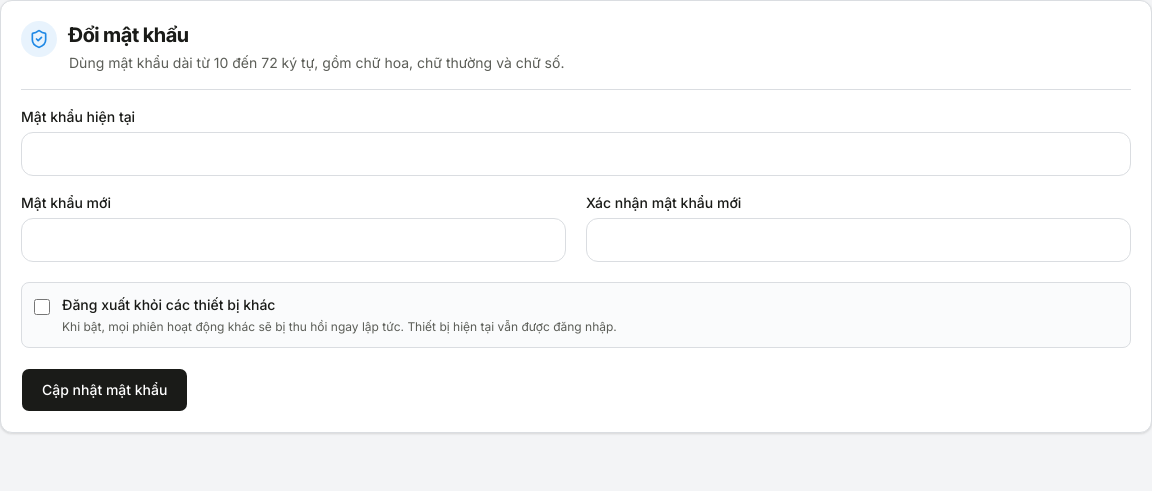
Test: ChangePasswordForm › shows revoked session count only when the option is enabled
Type "CurrentPass1" into the password field labelled "Mật khẩu hiện tại".
click(576, 154); type("CurrentPass1")  # box [21, 132, 1131, 176]
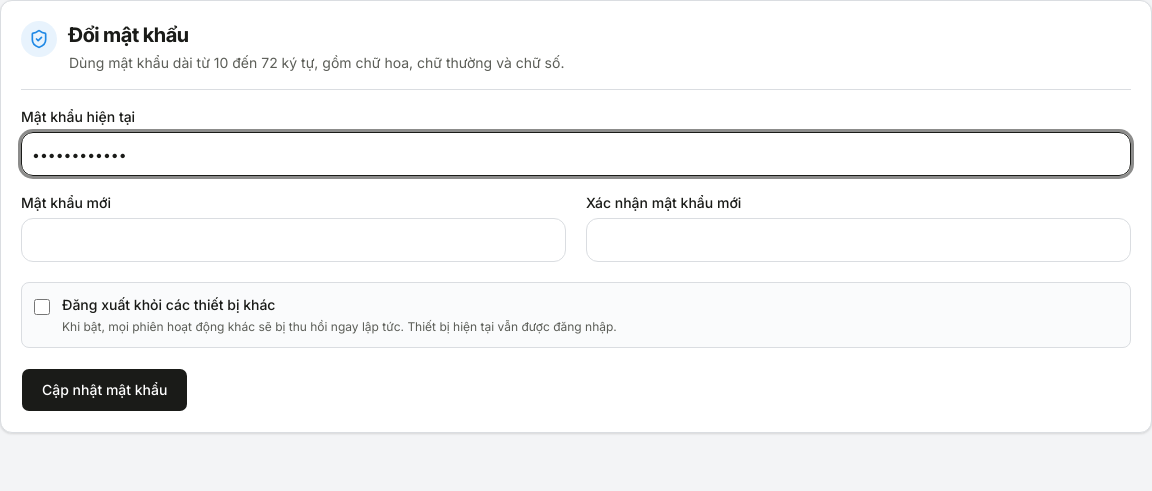
Type "NewPassword1" into the password field labelled "Mật khẩu mới".
click(294, 240); type("NewPassword1")  # box [21, 218, 566, 262]
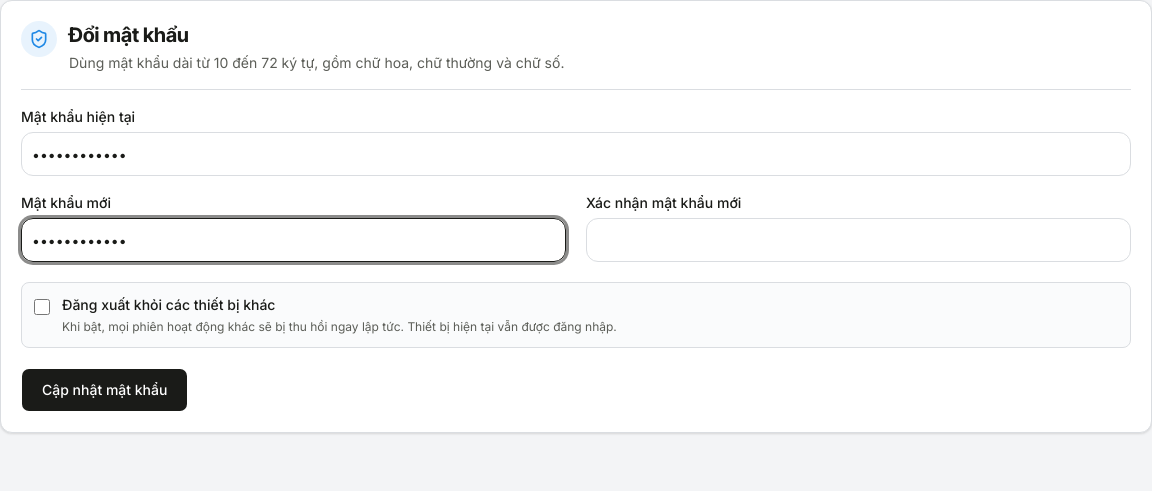
Type "NewPassword1" into the password field labelled "Xác nhận mật khẩu mới".
click(858, 240); type("NewPassword1")  # box [586, 218, 1131, 262]
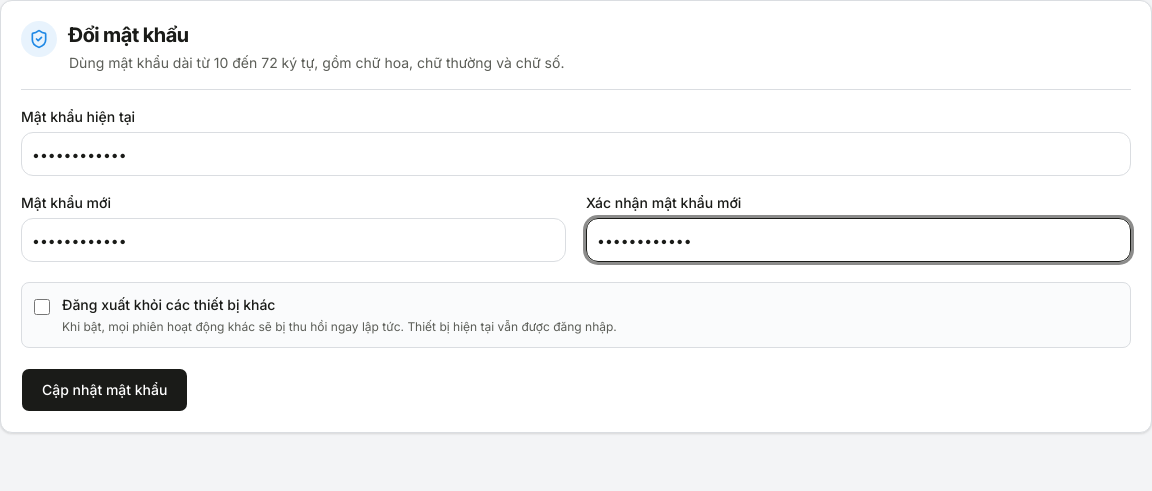
Click the checkbox.
click(42, 307)  # box [34, 299, 50, 315]
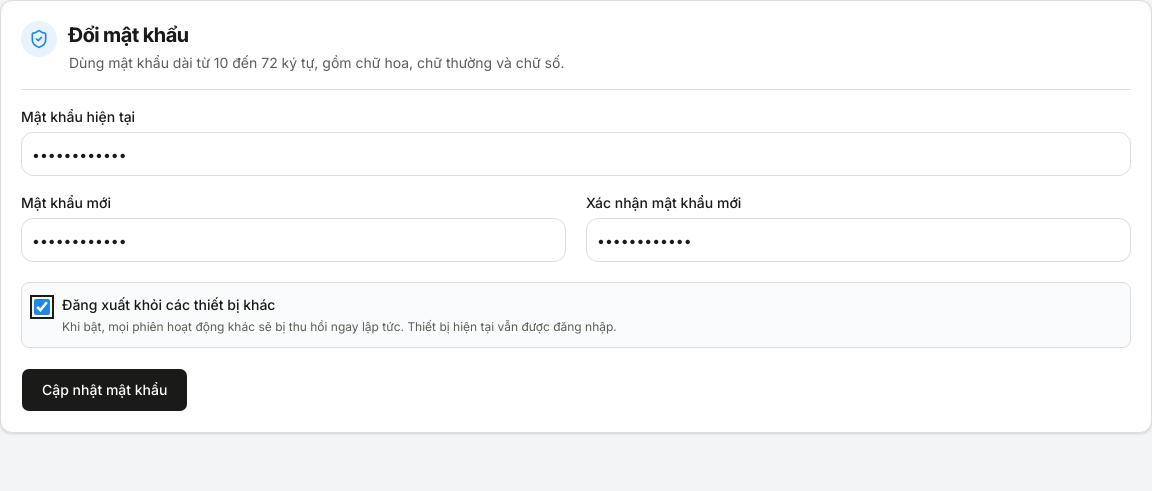
Click the button "Cập nhật mật khẩu".
click(105, 390)  # box [21, 368, 188, 412]
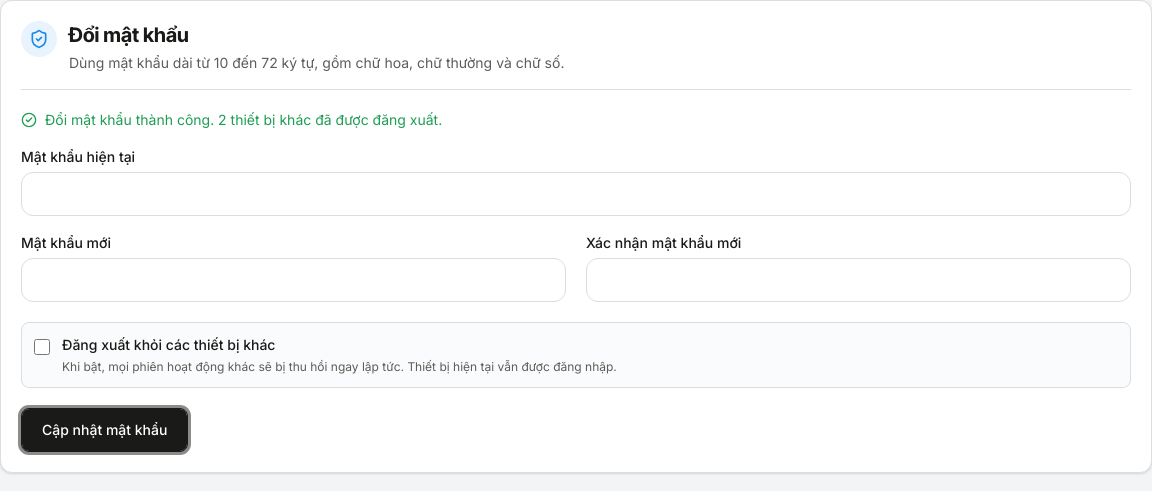
Expected: the text "Đổi mật khẩu thành công. 2 thiết bị khác đã được đăng xuất." is shown, [21, 111, 442, 128]
